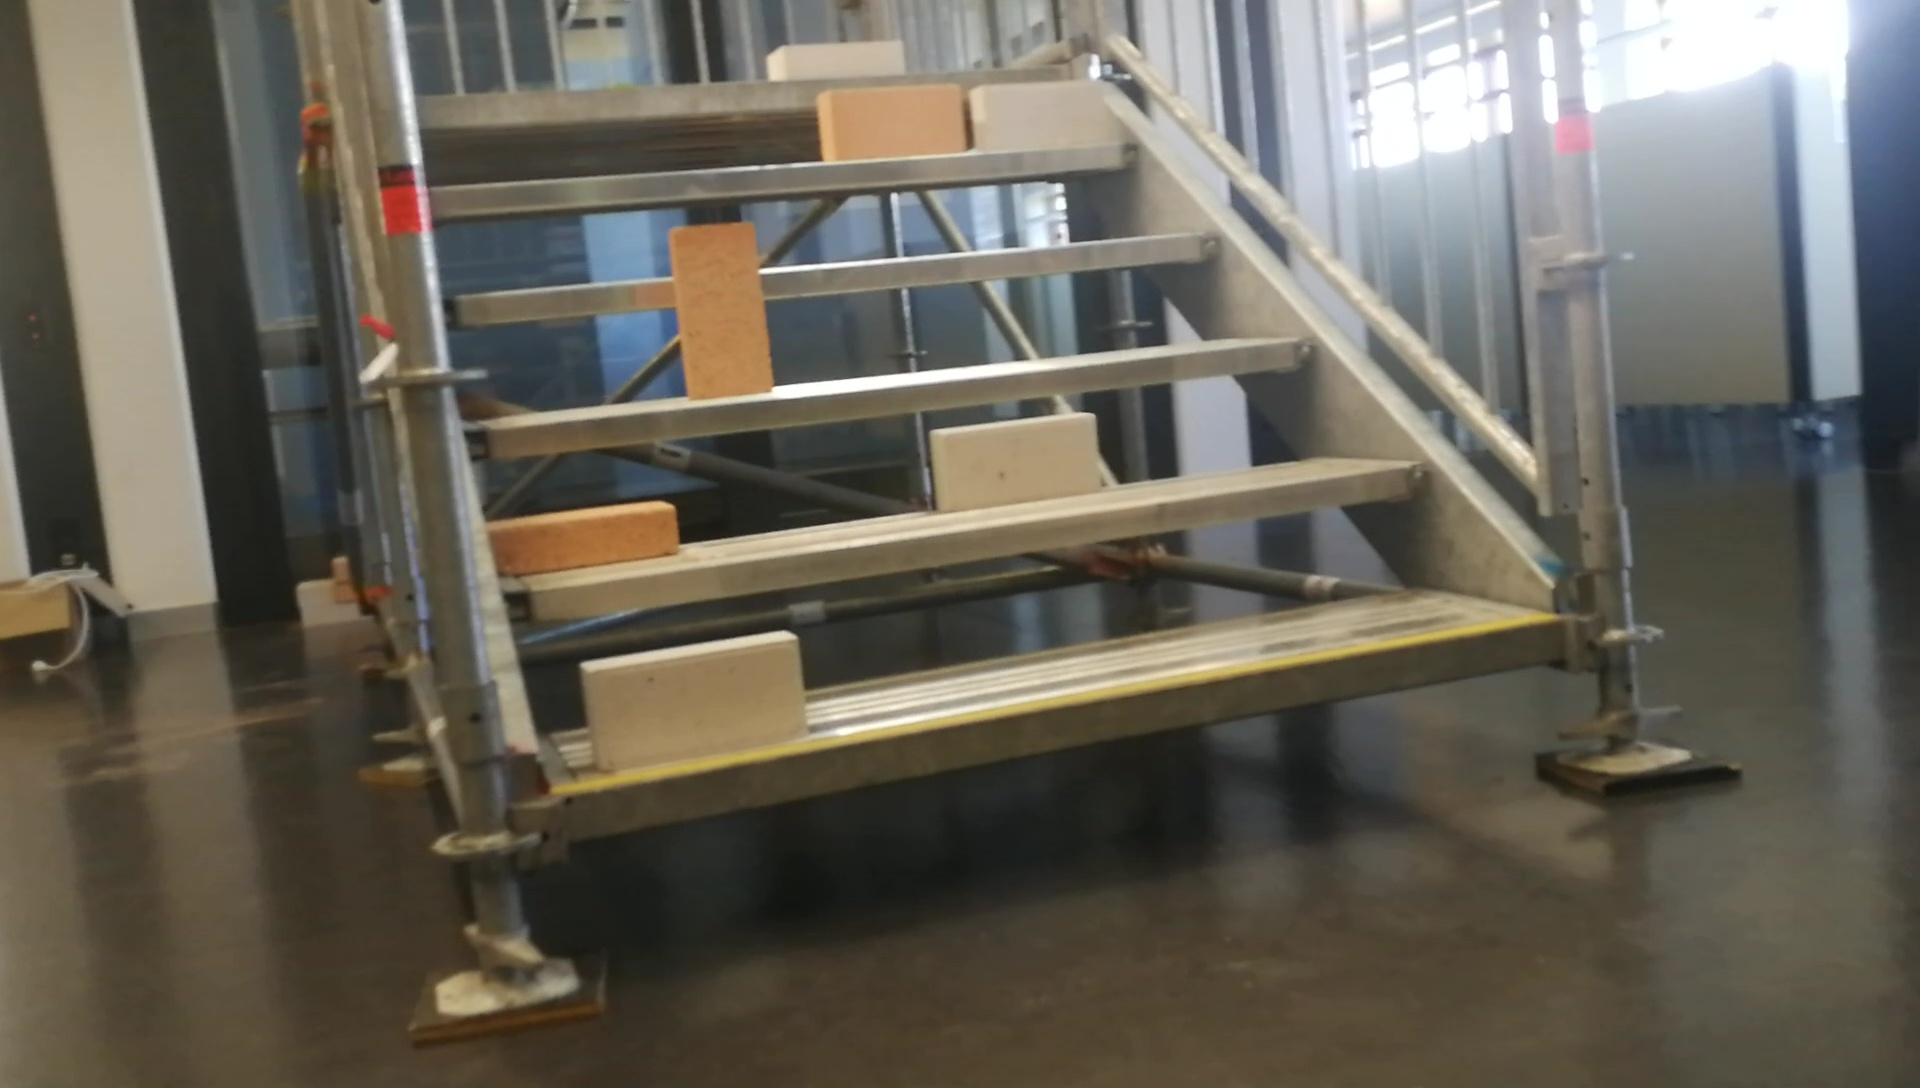brick: (584, 630, 800, 770), (669, 223, 770, 400), (934, 413, 1096, 508), (488, 500, 673, 578), (818, 86, 963, 160), (971, 83, 1098, 153), (767, 45, 902, 80)
edge: (559, 620, 1565, 840), (502, 463, 1429, 619), (464, 338, 1315, 455), (444, 232, 1218, 320), (429, 145, 1145, 214), (419, 67, 1075, 123)
stairs: (402, 3, 1739, 1043)
steps: (411, 36, 1586, 866)
